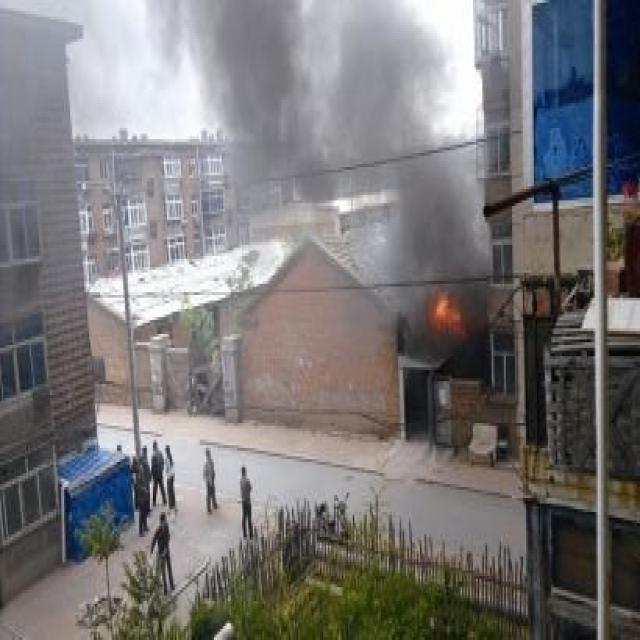Fire: (430, 295, 460, 337)
Smoke: (140, 3, 492, 373)
